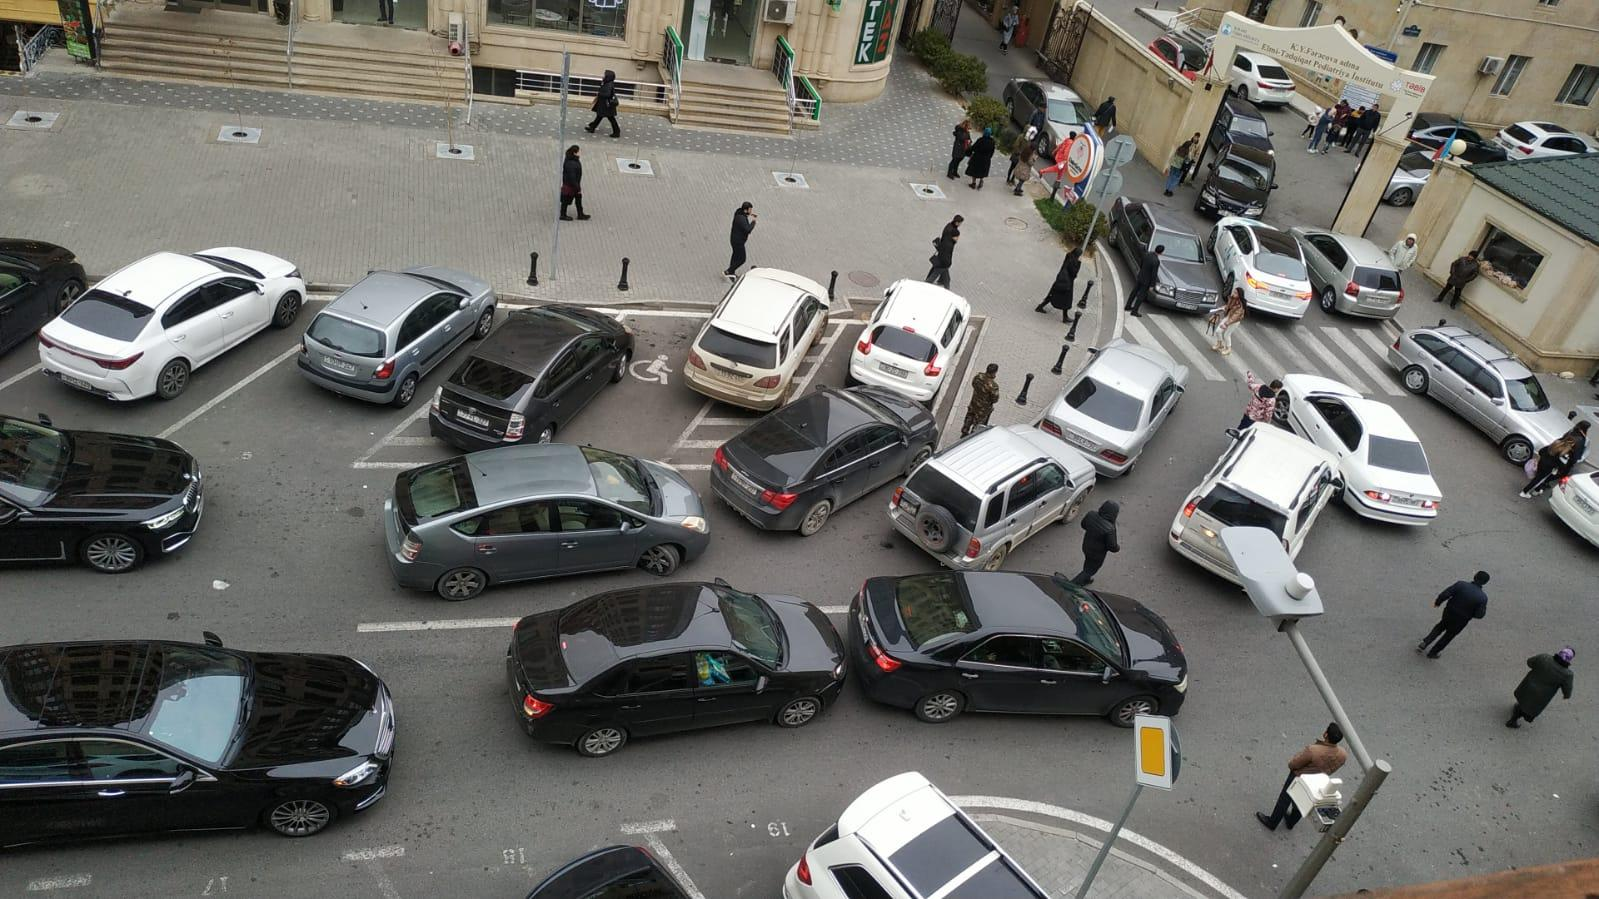Car: (0, 634, 396, 849), (505, 581, 847, 757), (848, 571, 1189, 727), (384, 443, 711, 596), (37, 246, 306, 402), (781, 772, 1052, 899), (711, 387, 938, 537), (0, 414, 204, 574), (888, 425, 1096, 569), (429, 304, 634, 450), (297, 268, 496, 408), (1166, 425, 1337, 585), (1275, 373, 1442, 528), (1388, 324, 1566, 464), (683, 267, 830, 411), (1035, 341, 1187, 477), (850, 279, 972, 404), (1108, 194, 1220, 316), (1209, 217, 1312, 321), (0, 236, 88, 356), (1291, 228, 1404, 321), (524, 843, 698, 899), (1000, 77, 1092, 159), (1195, 139, 1278, 220), (1407, 112, 1508, 165), (1352, 150, 1439, 209), (1491, 121, 1599, 160), (1550, 470, 1599, 550), (1211, 95, 1274, 155), (1230, 50, 1295, 106), (1149, 35, 1207, 71)
